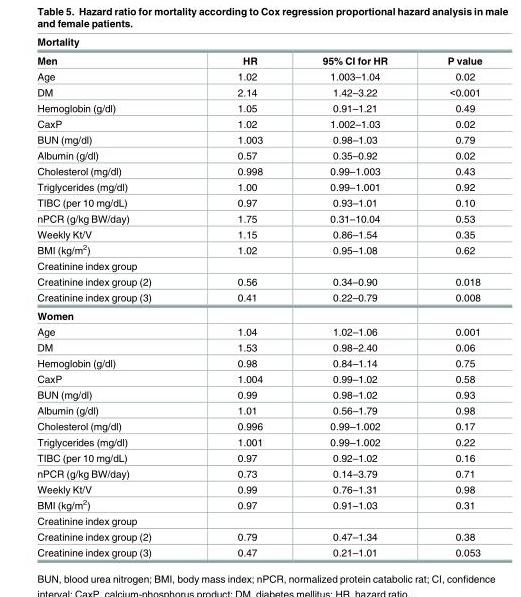table: (36, 37, 481, 557)
table column: (36, 37, 193, 557), (291, 37, 416, 557), (193, 37, 291, 557), (416, 37, 481, 557)
table column header: (36, 37, 481, 68)
table projected row header: (36, 306, 481, 323), (36, 258, 481, 274), (36, 513, 481, 529)
table row: (36, 51, 481, 68), (36, 241, 481, 258), (36, 289, 481, 306), (36, 306, 481, 323), (36, 496, 481, 513), (36, 68, 481, 84), (36, 84, 481, 100), (36, 100, 481, 116), (36, 116, 481, 132), (36, 147, 481, 163), (36, 163, 481, 179), (36, 179, 481, 195), (36, 210, 481, 226), (36, 258, 481, 274), (36, 323, 481, 339), (36, 339, 481, 355), (36, 355, 481, 371), (36, 371, 481, 387), (36, 402, 481, 418), (36, 418, 481, 434), (36, 434, 481, 450), (36, 450, 481, 466), (36, 513, 481, 529), (36, 132, 481, 147), (36, 195, 481, 210), (36, 226, 481, 241), (36, 274, 481, 289), (36, 387, 481, 402), (36, 466, 481, 481), (36, 481, 481, 496), (36, 529, 481, 544), (36, 37, 481, 51), (36, 544, 481, 557)
table spanning cell: (36, 37, 481, 51)
